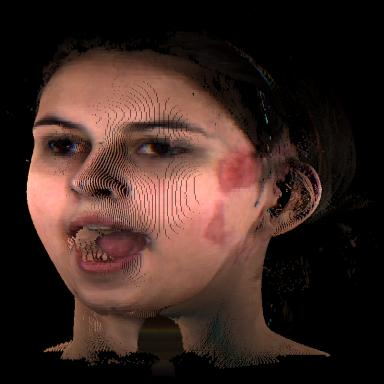burn: (216, 152, 261, 197), (204, 201, 228, 243)
